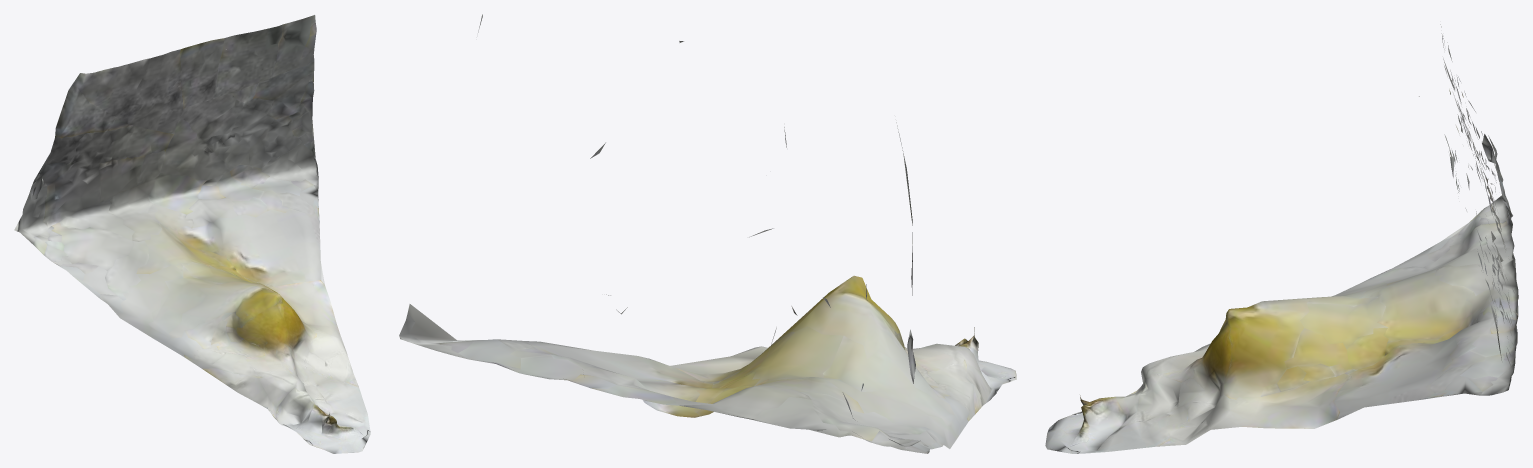
File: hall.glb
The picture shows the model from 3 angles, left to right: view 1: azimuth 30°, elevation 25°; view 2: azimuth 150°, elevation 25°; view 3: azimuth 270°, elevation 25°; orthographic projection. The views are drawn at different scales.
Bounding box in the file's own units: 1.05 × 0.9633 × 1.14.
Materials: 1 (1 with a texture image).
